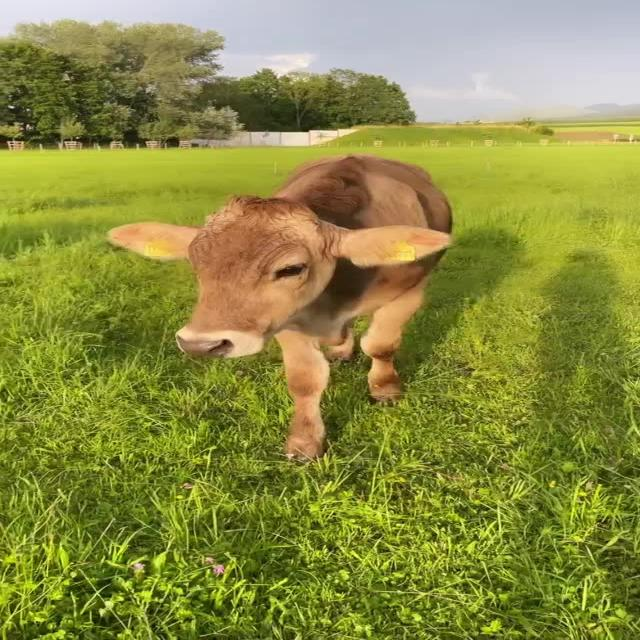cowFace: (79, 184, 465, 372)
